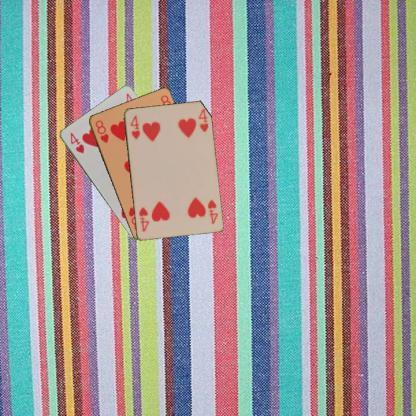4h: (67, 129, 86, 155), (204, 197, 219, 225), (128, 112, 142, 140)
8h: (92, 118, 110, 144)
